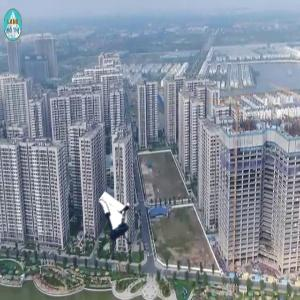drone: (83, 201, 150, 268)
